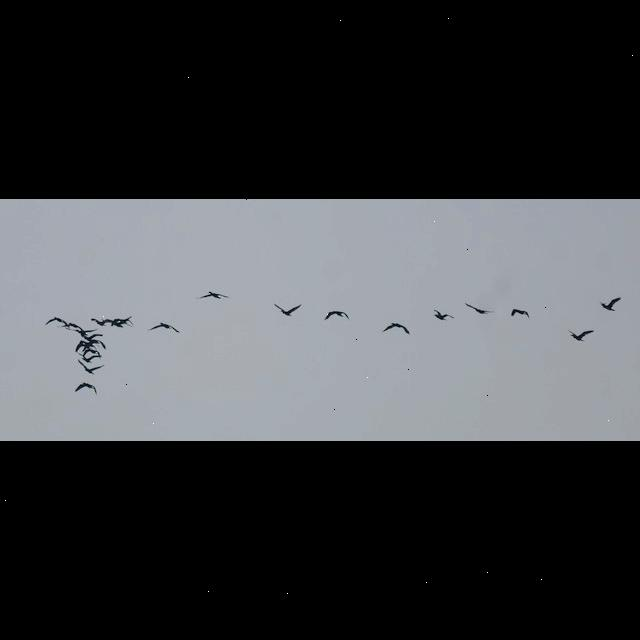cormorant: (272, 304, 304, 318), (566, 328, 596, 342), (600, 296, 626, 312), (150, 321, 180, 334), (381, 322, 413, 334), (70, 383, 100, 395), (324, 310, 351, 320)
